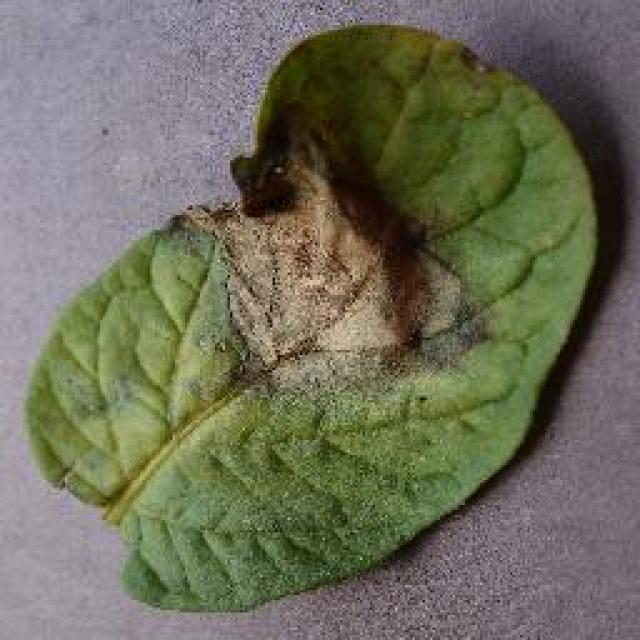late_blight: (20, 17, 602, 615)
